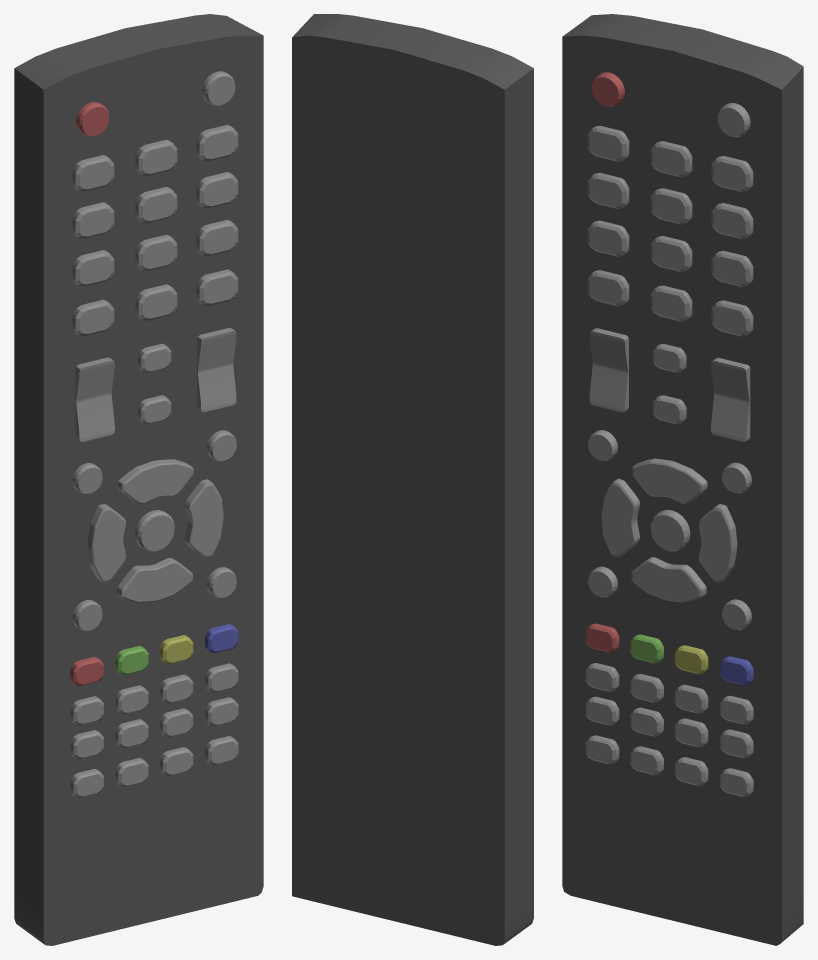
Rendered from remote_untextured.fbx.
3 renders of one model, left to right at view 1: azimuth 30°, elevation 25°; view 2: azimuth 150°, elevation 25°; view 3: azimuth 330°, elevation 25°, orthographic.
Visible parts, largest first — view 1: pCube1, pCube36, pCube39, pCube33, pCube35, pCube32, pCube34, pCylinder6, pCube12, pCube2, pCube10, pCube11 (+32 smaller); view 2: pCube1; view 3: pCube1, pCube39, pCube36, pCube33, pCube35, pCube32, pCube34, pCylinder6, pCube12, pCube3, pCube4, pCube5 (+32 smaller).
Boxes of the visible parts, bbox=[...] form: pCube1: bbox=[14, 14, 263, 945]; pCube36: bbox=[75, 357, 114, 441]; pCube39: bbox=[197, 327, 236, 412]; pCube33: bbox=[87, 504, 126, 582]; pCube35: bbox=[184, 479, 223, 558]; pCube32: bbox=[118, 459, 193, 503]; pCube34: bbox=[117, 558, 192, 602]; pCylinder6: bbox=[135, 510, 174, 551]; pCube12: bbox=[135, 284, 177, 320]; pCube2: bbox=[72, 155, 114, 191]; pCube10: bbox=[72, 250, 114, 286]; pCube11: bbox=[196, 269, 238, 305]; pCube1: bbox=[292, 14, 533, 945]; pCube1: bbox=[562, 14, 803, 945]; pCube39: bbox=[711, 357, 750, 441]; pCube36: bbox=[589, 328, 628, 412]; pCube33: bbox=[601, 478, 640, 557]; pCube35: bbox=[698, 504, 737, 582]; pCube32: bbox=[631, 458, 707, 504]; pCube34: bbox=[631, 557, 706, 602]; pCylinder6: bbox=[650, 509, 690, 551]; pCube12: bbox=[650, 285, 692, 321]; pCube3: bbox=[650, 141, 692, 177]; pCube4: bbox=[711, 156, 753, 192]; pCube5: bbox=[711, 203, 753, 239].
Size of the model in its own units: 41.42 by 157 by 11.26.
